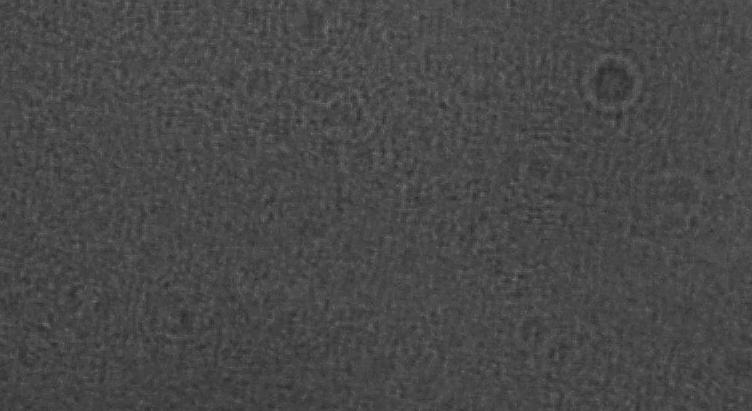bead: (567, 45, 656, 129)
